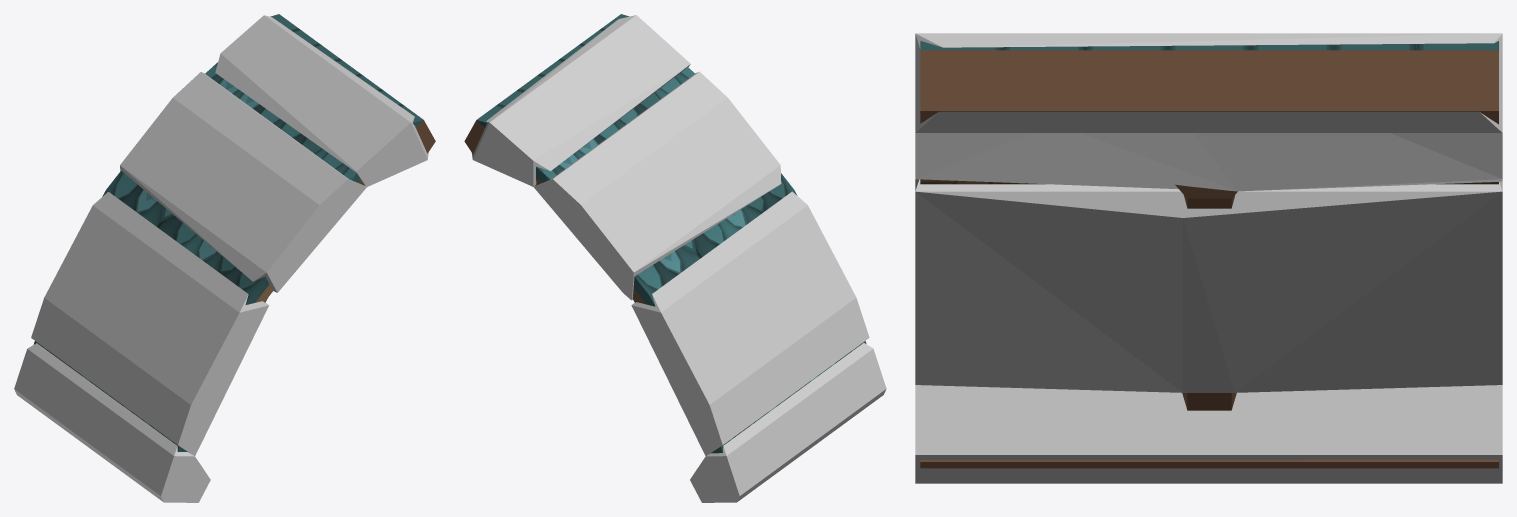
Rendered from SM_Bld_Roof_Convex_01.fbx.
The picture shows the model from 3 angles, left to right: view 1: azimuth 30°, elevation 25°; view 2: azimuth 150°, elevation 25°; view 3: azimuth 270°, elevation 25°; orthographic projection. The views are drawn at different scales.
Visible parts, largest first — view 1: SM_Bld_Roof_Convex_01_ConvexHulls, SM_Bld_Roof_Convex_01; view 2: SM_Bld_Roof_Convex_01_ConvexHulls, SM_Bld_Roof_Convex_01; view 3: SM_Bld_Roof_Convex_01_ConvexHulls, SM_Bld_Roof_Convex_01.
Part boxes in pixels (bbox=[...]): SM_Bld_Roof_Convex_01_ConvexHulls: bbox=[14, 15, 428, 502]; SM_Bld_Roof_Convex_01: bbox=[33, 14, 435, 452]; SM_Bld_Roof_Convex_01_ConvexHulls: bbox=[472, 15, 886, 502]; SM_Bld_Roof_Convex_01: bbox=[464, 14, 866, 453]; SM_Bld_Roof_Convex_01_ConvexHulls: bbox=[915, 33, 1502, 483]; SM_Bld_Roof_Convex_01: bbox=[920, 41, 1498, 468].
Bounding box in the file's own units: 276 × 254 × 313.
4 materials, 3 textured.
